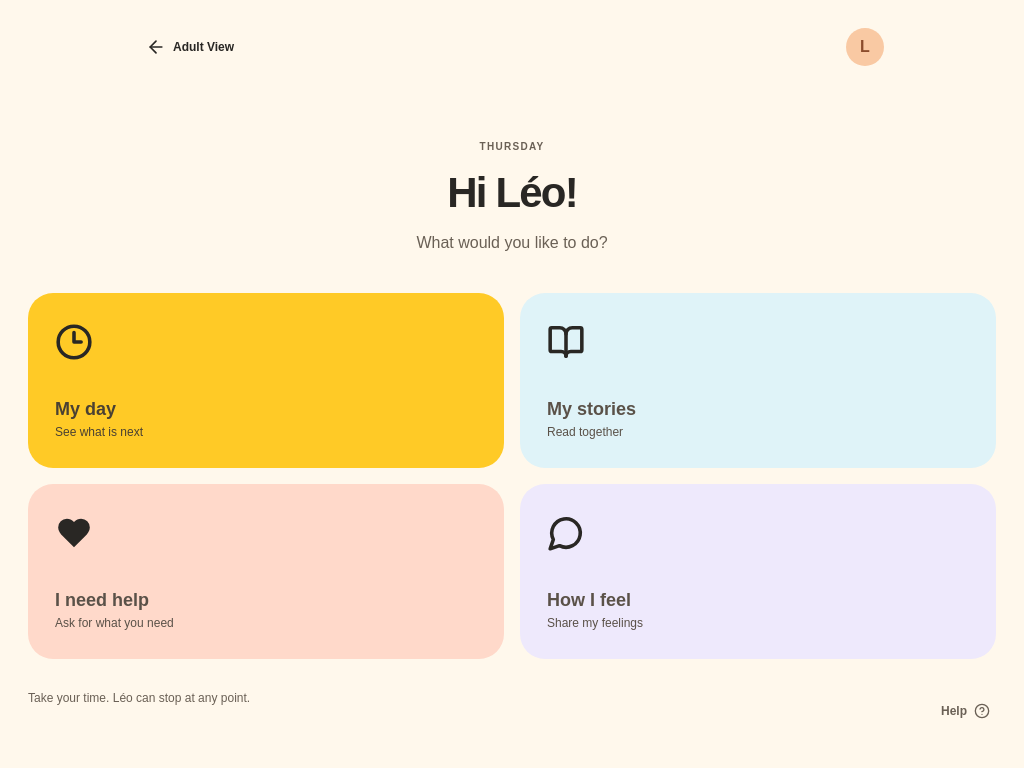
Test case: child mode › marks urgency with words as well as colour
Expected: the heading "Hi Léo!" is shown, [447,169,577,216]
Step 1. Click the button "I need help Ask for what you need" → (74, 533), box [28,484,504,659]
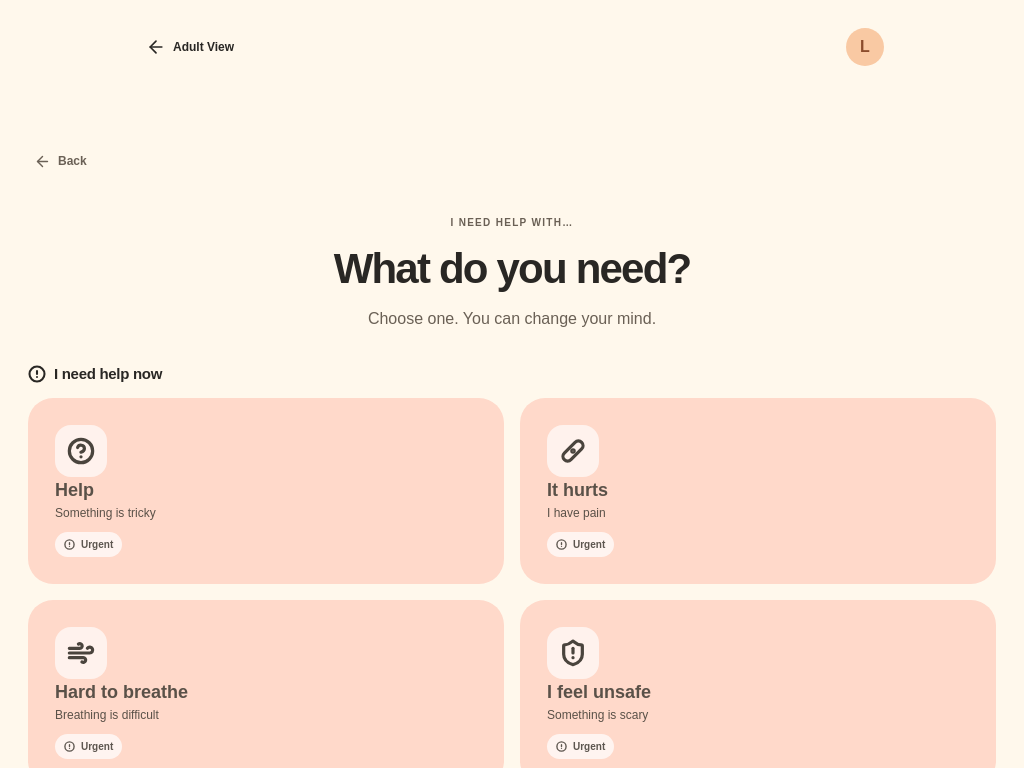
Now the heading "What do you need?" is shown, box [334,245,690,292]
Now the heading "I need help now" is shown, box [28,365,162,383]
Now the button "It hurts I have pain Urgent" is shown, box [520,398,996,584]
